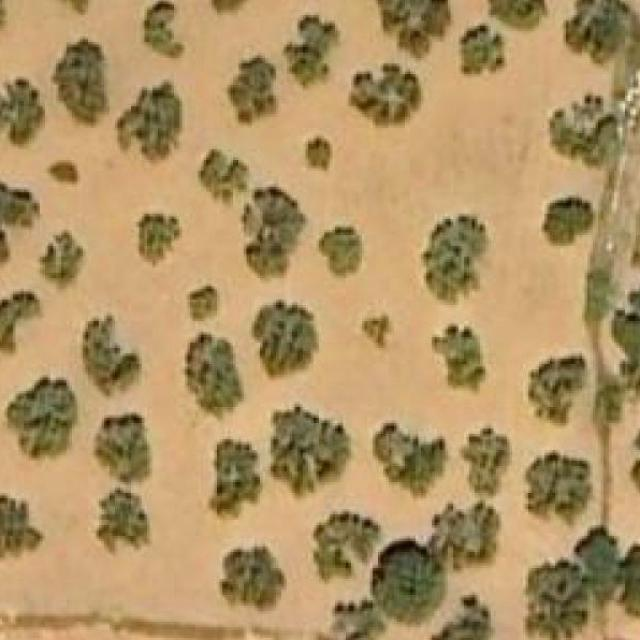Tree: (271, 405, 351, 501), (240, 184, 314, 284), (372, 539, 446, 625), (371, 423, 450, 502), (421, 217, 491, 306), (8, 374, 78, 458), (50, 36, 113, 128), (114, 80, 181, 166), (185, 332, 247, 421), (251, 300, 319, 380), (314, 509, 386, 584), (522, 450, 589, 525), (375, 0, 455, 61), (348, 63, 421, 128), (525, 562, 584, 640), (219, 547, 287, 614), (82, 316, 138, 396), (92, 412, 150, 486), (525, 357, 587, 424), (552, 101, 616, 163), (439, 504, 502, 566), (284, 15, 337, 88), (573, 0, 638, 58), (224, 56, 276, 126), (211, 440, 260, 514), (432, 324, 485, 392), (96, 491, 149, 558), (0, 76, 49, 148), (0, 180, 40, 266), (609, 284, 640, 394), (576, 534, 622, 601), (198, 149, 251, 206), (0, 493, 42, 560), (466, 428, 509, 493), (426, 597, 491, 640), (459, 24, 510, 77), (142, 0, 184, 61), (541, 195, 593, 244), (40, 233, 82, 292), (316, 228, 362, 281), (0, 292, 40, 351), (138, 214, 182, 267), (481, 0, 548, 33), (332, 603, 380, 640), (593, 391, 623, 437), (622, 543, 640, 616), (187, 286, 219, 326), (305, 135, 335, 176), (362, 310, 392, 351), (627, 423, 640, 493), (44, 160, 79, 185), (0, 0, 13, 29)
